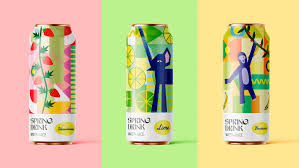can: (124, 22, 174, 147), (29, 23, 78, 147), (223, 22, 271, 146)
